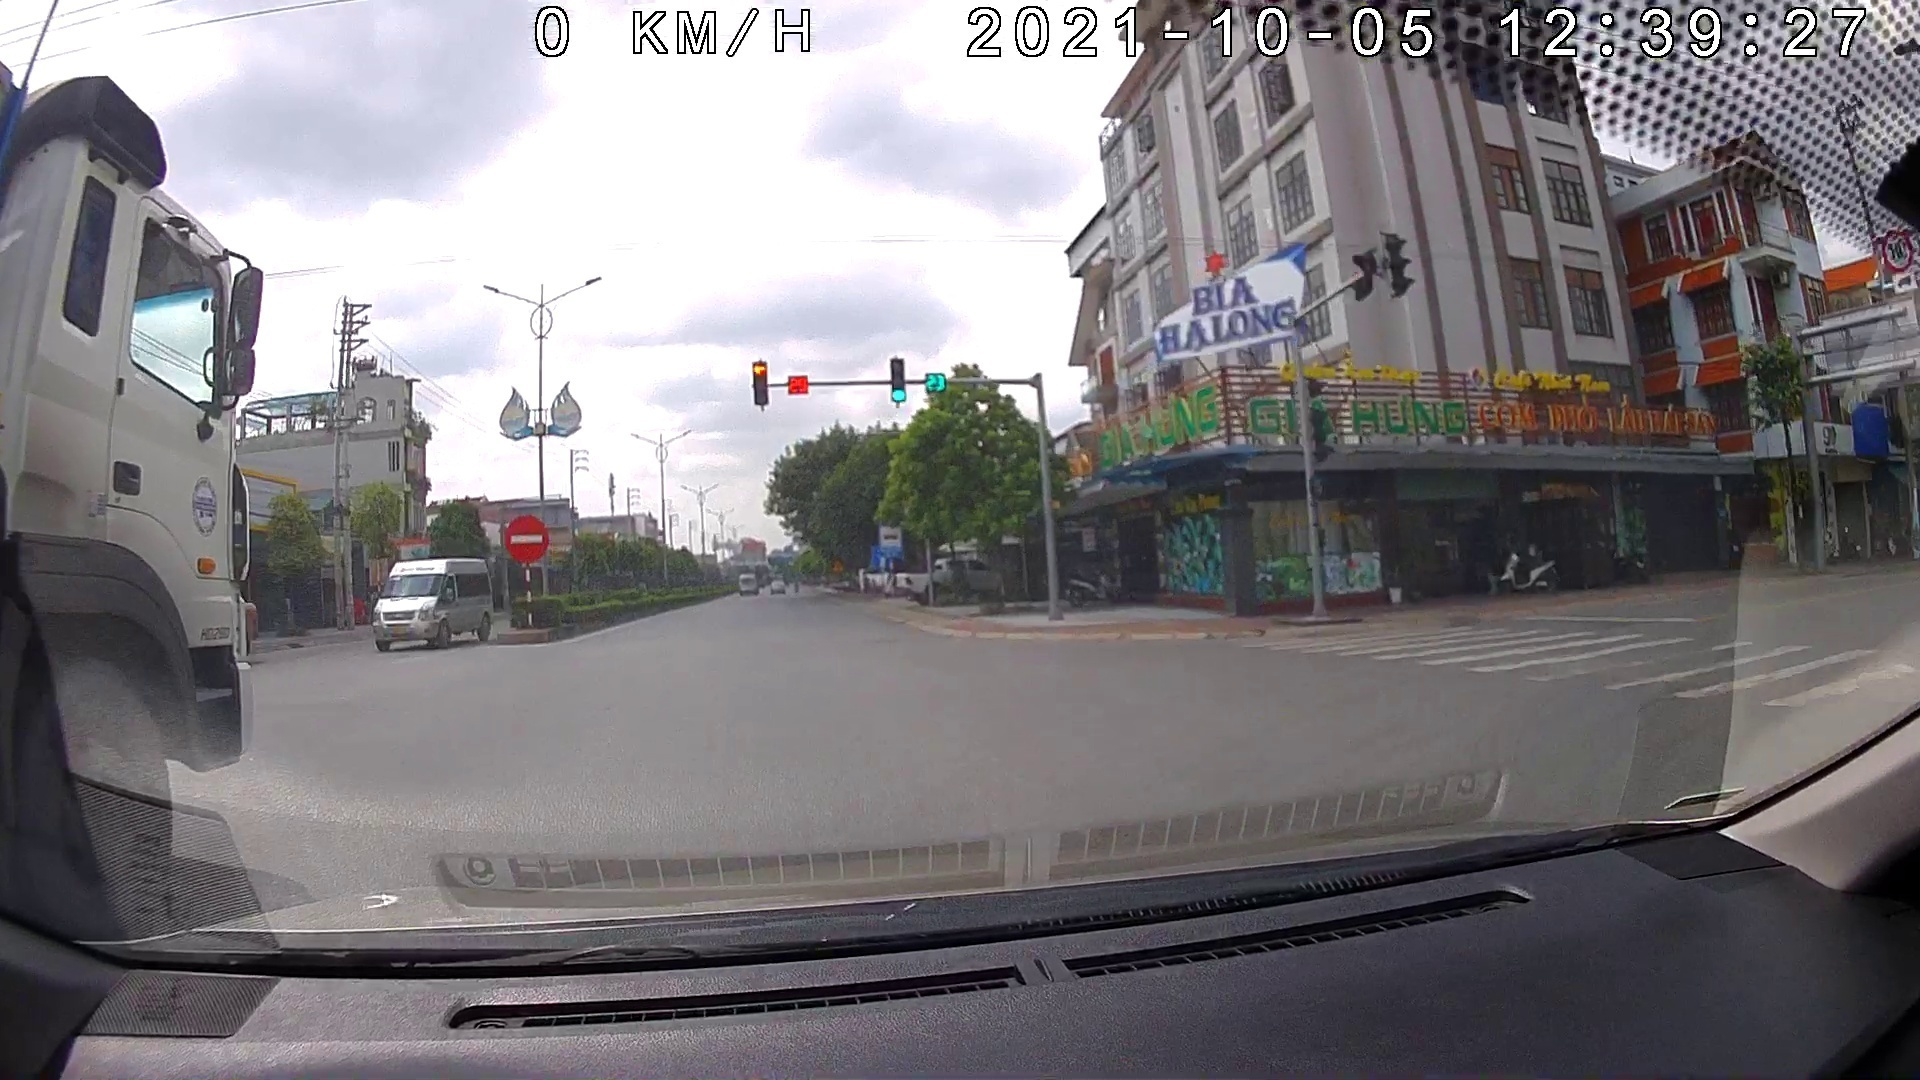Bien khac: (877, 516, 903, 559)
Cam di nguoc chieu: (506, 516, 553, 566)
